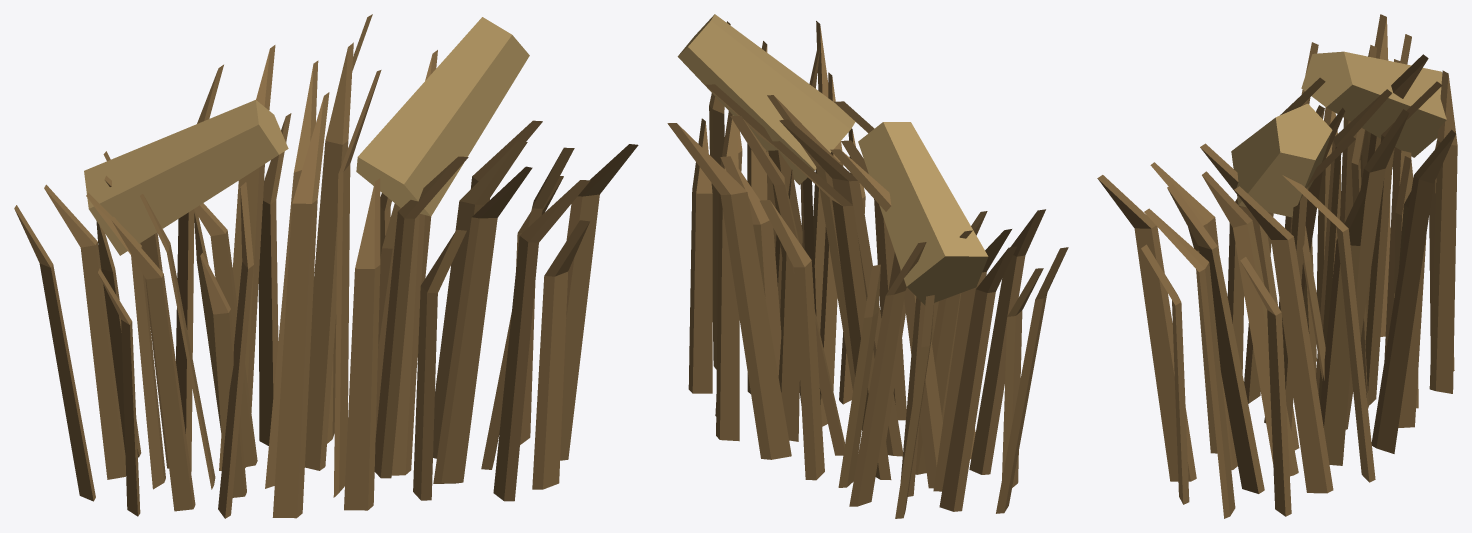
The model's file is soil_herb_quaternius_withered.glb.
3 views of the same model, side by side, from view 1: azimuth 30°, elevation 25°; view 2: azimuth 150°, elevation 25°; view 3: azimuth 270°, elevation 25° (orthographic). The views are drawn at different scales.
Parts seen in each view (by area): view 1: WitheredBlade00, WitheredBlade01, WitheredBlade02, WitheredSeedHead00, WitheredSeedHead01; view 2: WitheredBlade00, WitheredBlade02, WitheredBlade01, WitheredSeedHead01, WitheredSeedHead00; view 3: WitheredBlade01, WitheredBlade00, WitheredBlade02, WitheredSeedHead01, WitheredSeedHead00.
Boxes of the visible parts, bbox=[...] form: WitheredBlade00: bbox=[176, 14, 437, 518]; WitheredBlade01: bbox=[374, 120, 638, 501]; WitheredBlade02: bbox=[14, 151, 257, 516]; WitheredSeedHead00: bbox=[356, 17, 529, 216]; WitheredSeedHead01: bbox=[84, 100, 288, 255]; WitheredBlade00: bbox=[667, 84, 975, 488]; WitheredBlade02: bbox=[838, 209, 1068, 518]; WitheredBlade01: bbox=[688, 21, 865, 441]; WitheredSeedHead01: bbox=[858, 122, 988, 305]; WitheredSeedHead00: bbox=[677, 14, 855, 184]; WitheredBlade01: bbox=[1097, 143, 1375, 518]; WitheredBlade00: bbox=[1227, 54, 1455, 465]; WitheredBlade02: bbox=[1301, 14, 1457, 408]; WitheredSeedHead01: bbox=[1301, 51, 1454, 157]; WitheredSeedHead00: bbox=[1231, 103, 1332, 217].
Size of the model in its own units: 0.3876 by 0.3133 by 0.2571.
